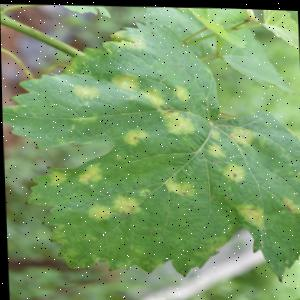Folha: (0, 12, 300, 284)
Fungo: (86, 190, 142, 221), (160, 107, 196, 133), (235, 199, 265, 228), (108, 26, 145, 48), (77, 160, 106, 185), (163, 173, 194, 195), (110, 192, 141, 214), (110, 70, 141, 90), (139, 85, 167, 106), (227, 124, 255, 144), (121, 125, 149, 144), (221, 159, 246, 180), (85, 202, 114, 219), (72, 83, 101, 99), (45, 167, 69, 185), (204, 140, 227, 156), (281, 194, 300, 211), (173, 83, 190, 100), (71, 112, 100, 121), (146, 227, 156, 233), (231, 170, 237, 174), (132, 134, 138, 138)
